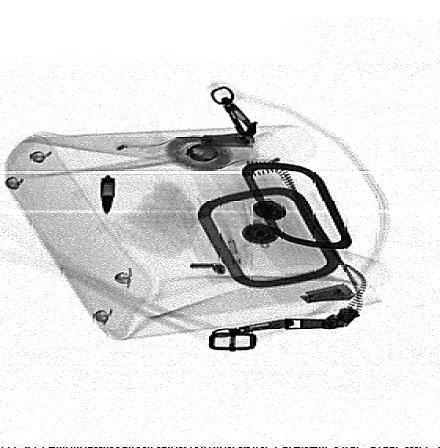Bullet: (100, 178, 116, 215)
